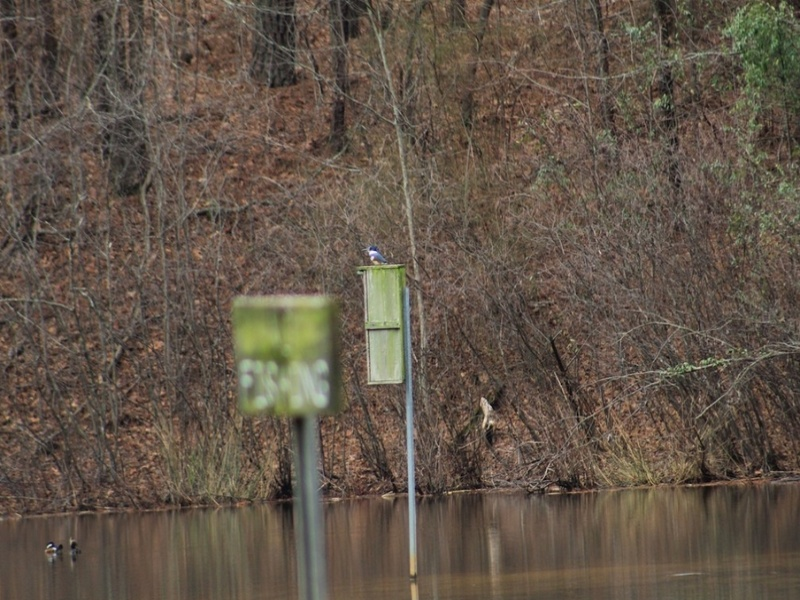kingfisher: (362, 242, 390, 269)
